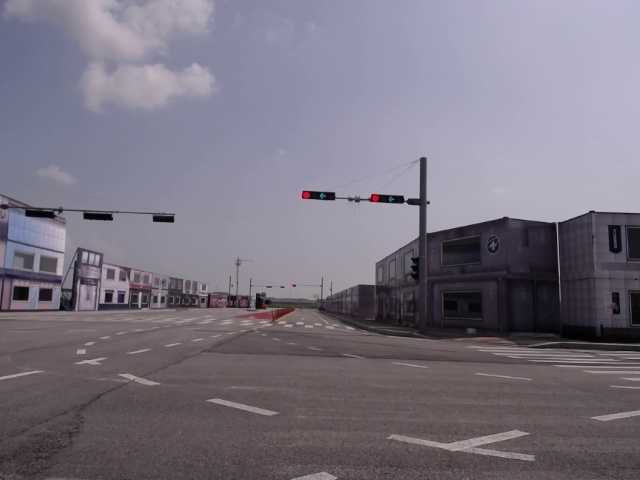left_green_4: (371, 195, 404, 204), (302, 191, 334, 200)
